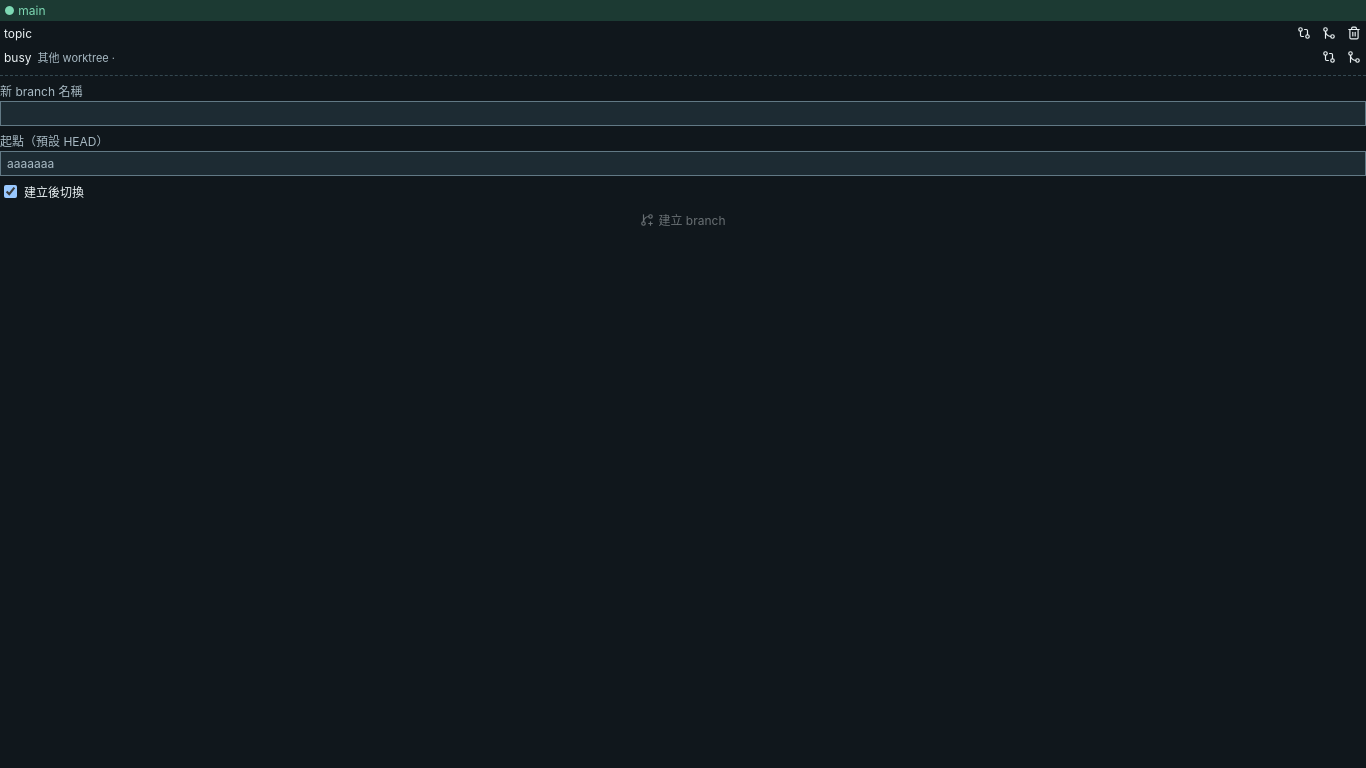
Test: destructive confirmations › cancelling a confirmation sends nothing
Click the button named "刪除 branch topic": (1354, 33) 1342,21 -> 1365,45
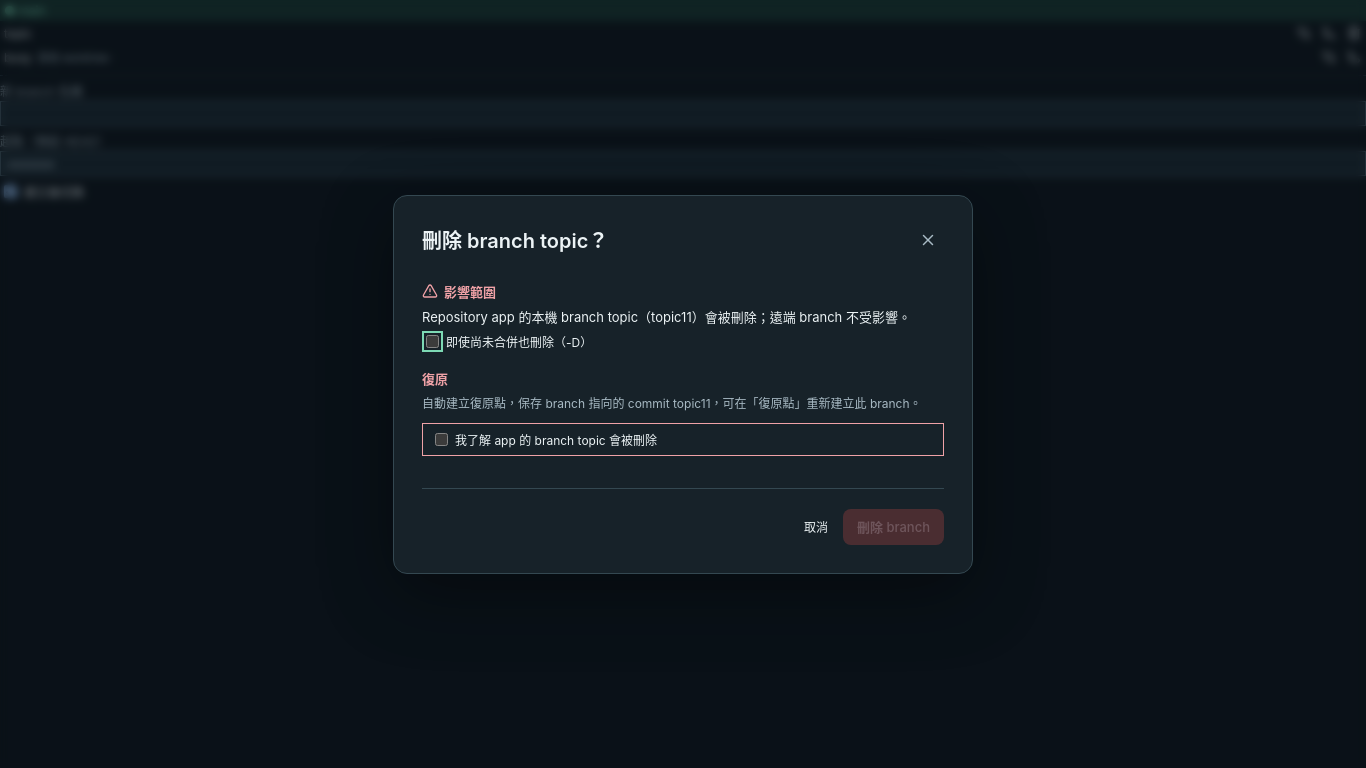
Click the button "取消": (816, 526) 798,508 -> 834,544
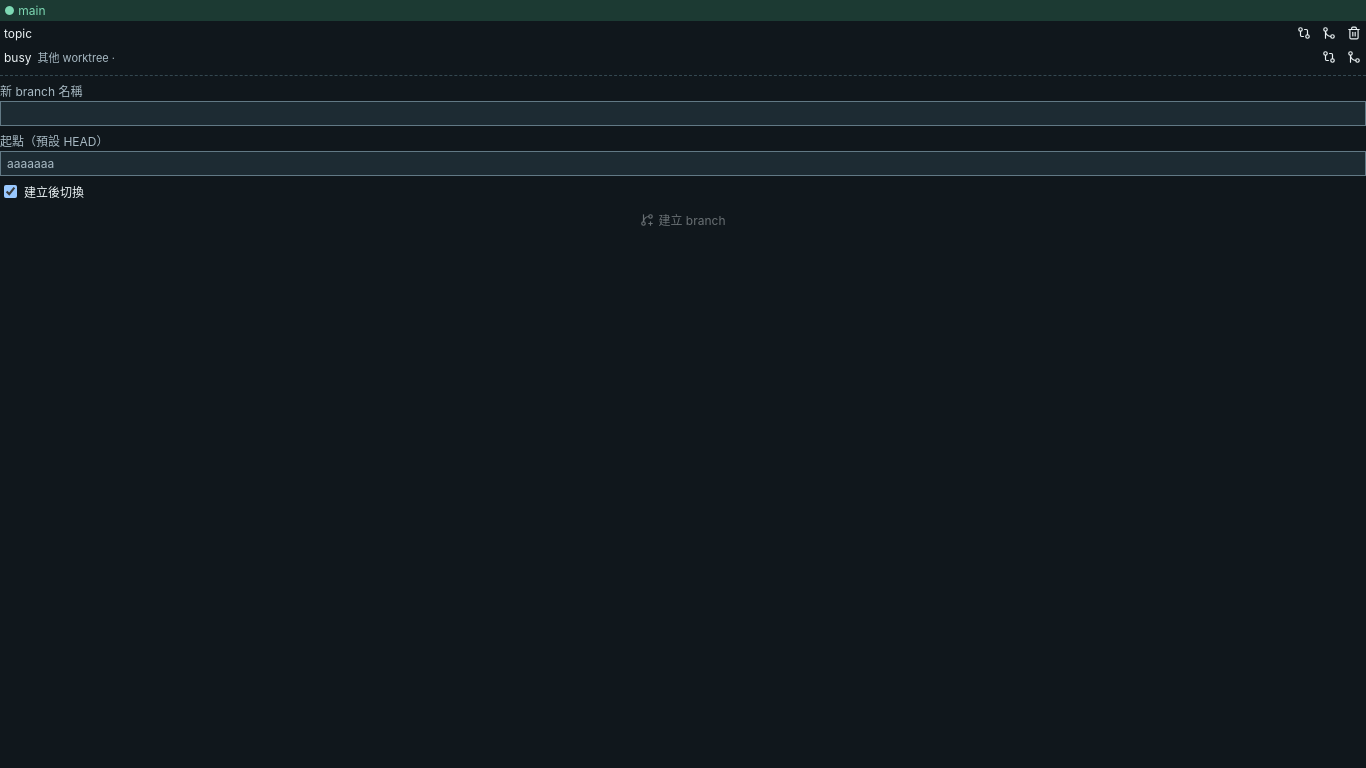
Check: the dialog is gone
